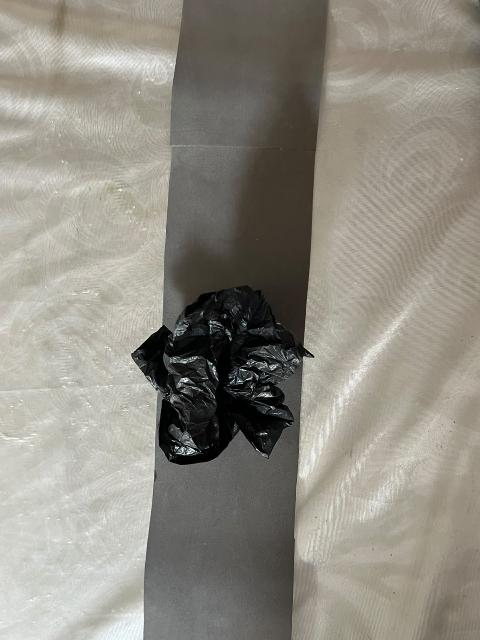LDPE: (107, 243, 335, 564)
